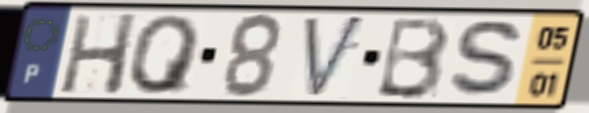8: (219, 11, 287, 101)
B: (371, 15, 454, 103)
H: (56, 11, 143, 98)
Q: (126, 13, 205, 97)
S: (444, 16, 530, 101)
V: (301, 12, 370, 103)
